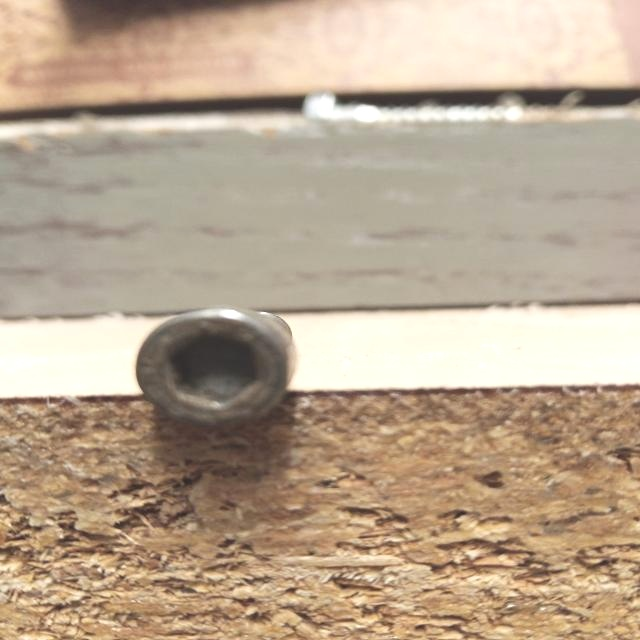allen: (134, 311, 295, 430)
